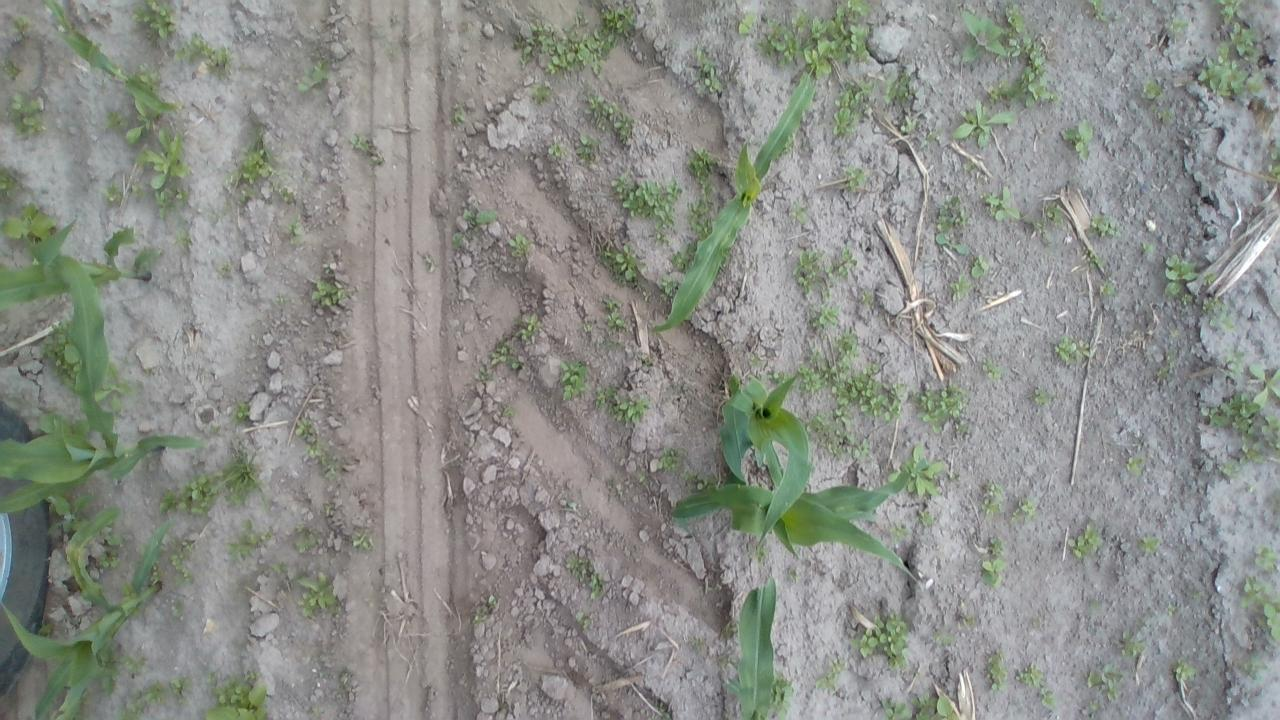Maize: (653, 65, 816, 333), (3, 498, 172, 720), (3, 214, 155, 460), (668, 459, 922, 587), (2, 409, 200, 518), (720, 369, 811, 544), (46, 0, 176, 115), (738, 576, 776, 720)
Weeds: (799, 335, 910, 421), (758, 1, 872, 77), (514, 6, 637, 76), (986, 2, 1059, 105), (150, 454, 264, 516), (1197, 23, 1265, 99), (609, 175, 687, 226), (848, 610, 908, 669), (202, 669, 270, 720), (134, 130, 193, 188), (888, 443, 944, 499), (1196, 388, 1256, 440), (806, 415, 874, 460), (916, 380, 970, 434), (952, 100, 1015, 146), (1237, 578, 1280, 642), (952, 12, 1006, 62), (225, 128, 272, 185), (833, 78, 874, 136), (174, 34, 232, 74), (869, 694, 958, 720), (588, 94, 635, 142), (1, 202, 58, 241), (132, 0, 179, 46), (598, 241, 647, 284), (44, 322, 77, 382), (228, 519, 274, 561), (298, 568, 335, 617), (124, 97, 160, 145), (566, 552, 602, 600), (687, 184, 717, 240), (119, 681, 162, 720), (1086, 664, 1130, 702), (1058, 118, 1094, 162), (12, 92, 49, 134), (1066, 517, 1102, 559), (793, 250, 824, 298), (692, 46, 723, 94), (1164, 252, 1200, 292), (936, 194, 971, 234), (105, 362, 134, 410), (1248, 363, 1278, 409), (53, 495, 90, 531), (982, 187, 1020, 222), (984, 642, 1010, 690), (559, 357, 587, 401), (881, 68, 917, 102), (170, 540, 198, 583), (101, 648, 123, 702), (768, 675, 794, 720), (296, 61, 331, 93), (311, 280, 347, 310), (94, 535, 124, 569), (1051, 336, 1090, 362), (612, 398, 648, 424), (513, 312, 543, 342), (828, 246, 857, 277), (810, 304, 842, 332), (688, 149, 716, 181), (814, 663, 846, 690), (1119, 628, 1148, 657), (1222, 349, 1250, 379), (462, 206, 500, 228), (602, 298, 626, 332), (651, 448, 681, 475), (1240, 656, 1270, 682), (934, 234, 969, 256), (1154, 350, 1178, 382), (981, 480, 1002, 515), (469, 596, 495, 624), (1090, 214, 1120, 238), (1214, 0, 1244, 24), (1016, 662, 1046, 686), (981, 558, 1004, 588), (1010, 496, 1034, 524), (573, 133, 596, 162), (1262, 412, 1280, 449), (594, 382, 616, 412), (1254, 545, 1278, 572), (680, 470, 710, 491), (1238, 444, 1268, 465), (787, 200, 813, 224), (738, 11, 757, 43), (1086, 0, 1116, 20), (1172, 659, 1196, 683), (296, 530, 320, 554), (673, 242, 693, 270), (168, 677, 192, 700), (353, 134, 378, 156), (846, 167, 866, 194), (140, 64, 162, 88), (930, 625, 954, 647), (1219, 456, 1241, 480), (156, 190, 173, 220), (1045, 200, 1066, 224), (1142, 80, 1170, 98), (320, 450, 338, 478), (1137, 533, 1161, 554), (490, 342, 510, 367), (950, 275, 969, 301), (532, 81, 554, 103), (351, 531, 373, 553), (12, 17, 33, 40), (106, 109, 129, 130), (509, 233, 530, 256), (648, 229, 671, 250), (1266, 142, 1280, 176), (178, 222, 196, 248), (979, 362, 1003, 381), (452, 97, 468, 125), (973, 252, 989, 278), (986, 535, 1004, 557), (1170, 13, 1190, 32), (662, 274, 679, 296), (917, 509, 936, 528), (1139, 239, 1159, 257), (0, 175, 21, 192), (981, 499, 1002, 516), (898, 116, 918, 133), (1156, 106, 1172, 127), (235, 405, 256, 421), (1040, 688, 1055, 710), (1034, 386, 1050, 406), (126, 656, 150, 669), (289, 222, 303, 244), (294, 419, 312, 436), (174, 185, 192, 202), (1127, 455, 1146, 471), (960, 612, 979, 628), (860, 290, 876, 308), (768, 367, 786, 383), (172, 597, 186, 617), (3, 58, 18, 76), (280, 187, 298, 202), (749, 350, 764, 368), (891, 523, 910, 537), (1100, 282, 1116, 298), (106, 187, 122, 203), (1202, 296, 1216, 314), (132, 184, 146, 202), (755, 545, 768, 564), (636, 470, 649, 489), (452, 230, 464, 250), (600, 341, 624, 351), (306, 444, 320, 461), (1086, 252, 1104, 265), (576, 611, 594, 624), (502, 405, 518, 419), (1088, 599, 1106, 611), (927, 129, 941, 143), (548, 144, 562, 158), (508, 357, 520, 370), (1224, 318, 1236, 330), (1180, 295, 1196, 304), (476, 366, 488, 378), (1165, 603, 1176, 616), (220, 262, 233, 272), (279, 562, 289, 574), (1203, 274, 1217, 282), (1091, 699, 1100, 710), (583, 326, 592, 334), (644, 358, 654, 365)
